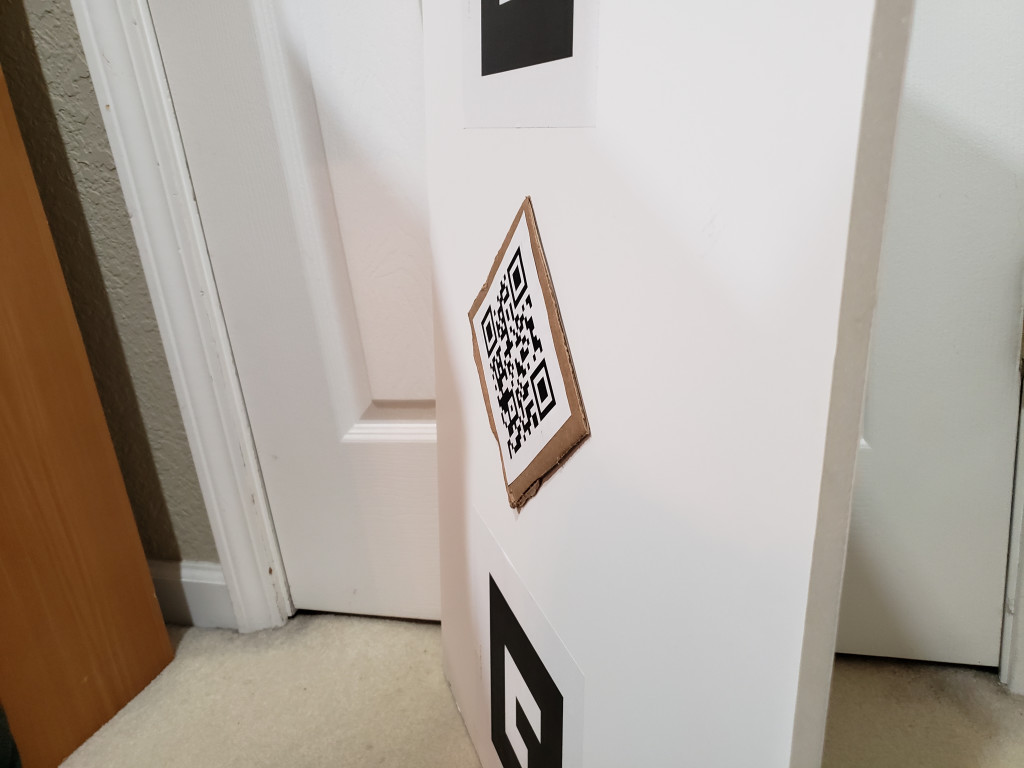QR_CODE: (456, 230, 569, 476)
